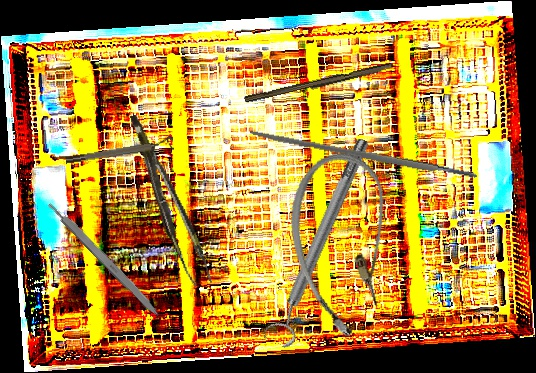Cannula: (274, 144, 417, 345)
Fixation Ring: (258, 133, 382, 351), (64, 135, 175, 166)
Scalpel Handle: (47, 199, 164, 320), (249, 128, 478, 182), (243, 59, 395, 108)
Tissue Forceps: (129, 107, 213, 292)
